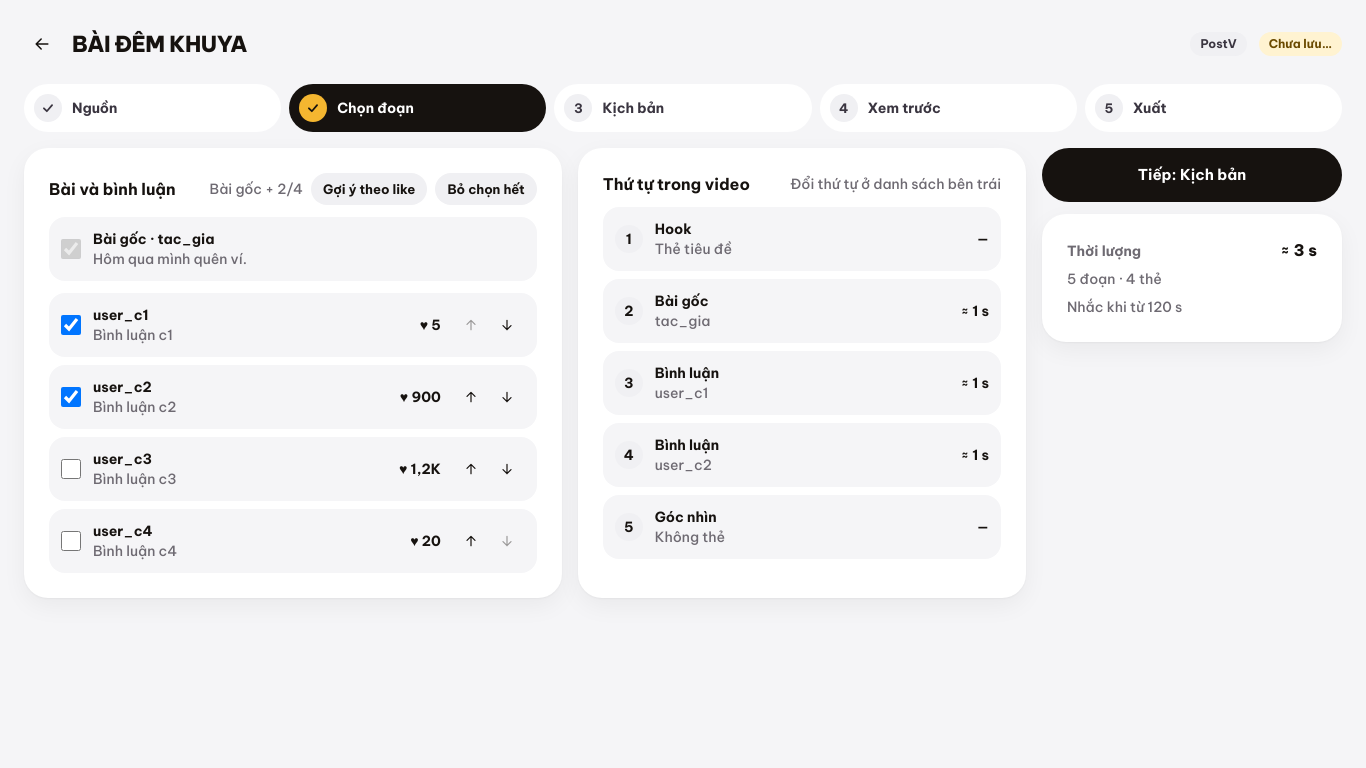
Bước 2 · Chọn đoạn › "Gợi ý theo like" picks the three most liked, "Bỏ chọn hết" clears
Expected: the element "Thứ tự trong video" is shown, [578, 148, 1026, 598]
Click the button "Gợi ý theo like". click: (369, 189)
box: [311, 173, 427, 205]
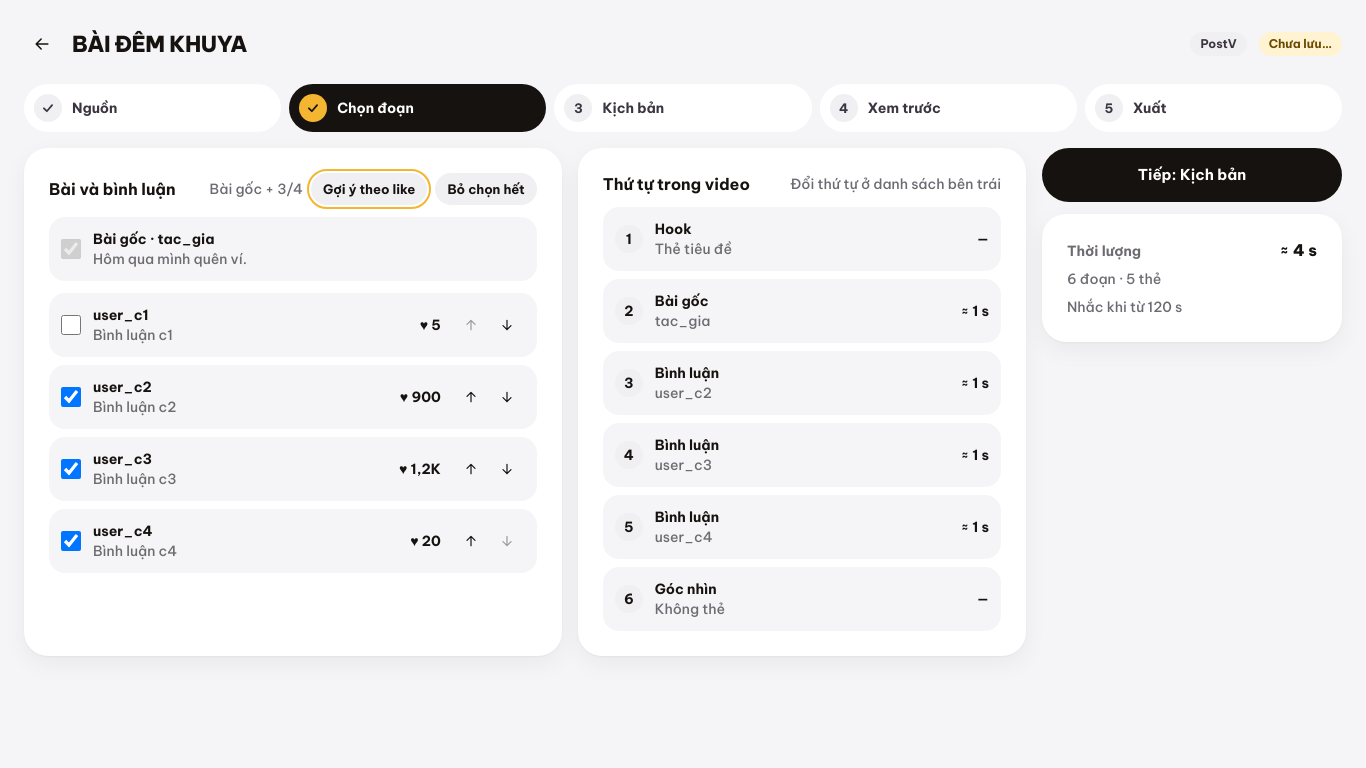
Now the text "Bài gốc + 3/4" is shown, box [210, 179, 303, 199]
Click the button "Bỏ chọn hết". click: (486, 189)
box: [435, 173, 537, 205]
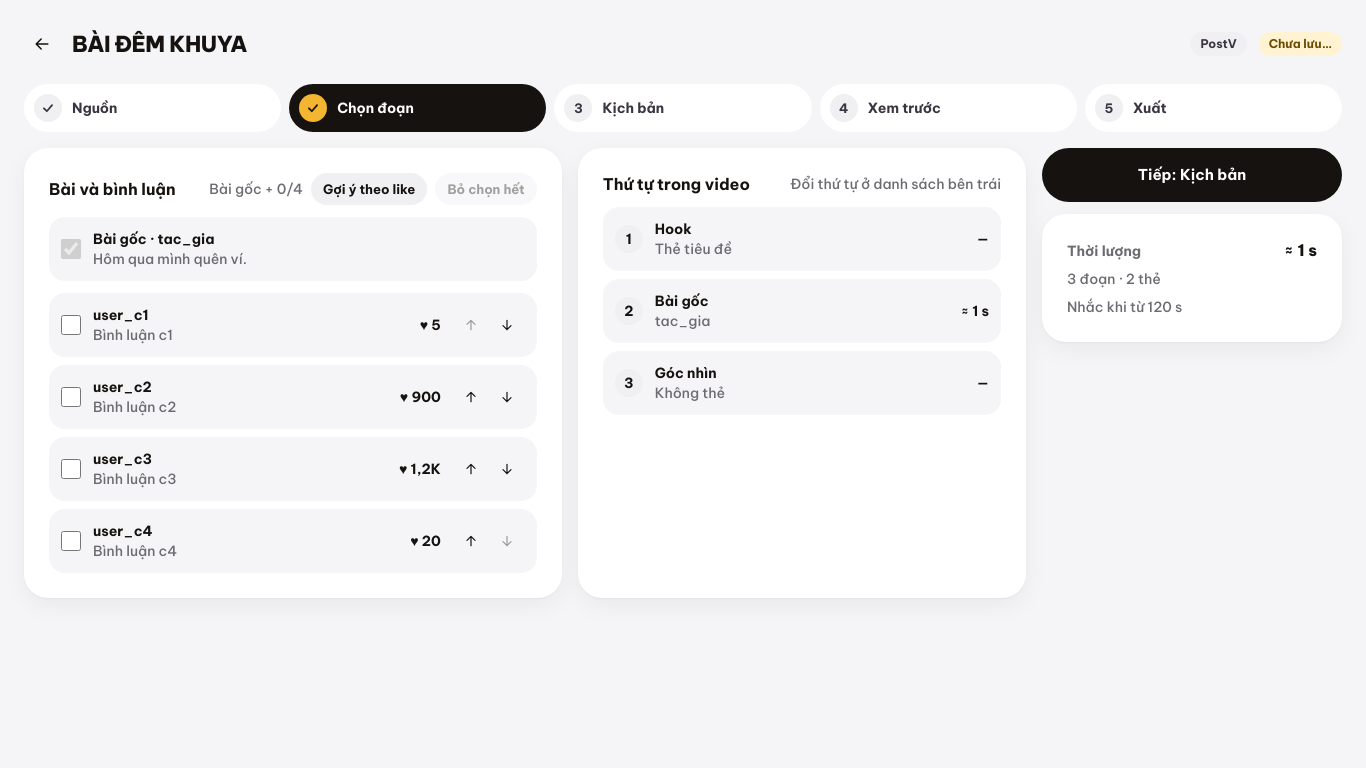
Now the text "Bài gốc + 0/4" is shown, box [209, 179, 303, 199]
Now the button "Bỏ chọn hết" is disabled, box [435, 173, 537, 205]
